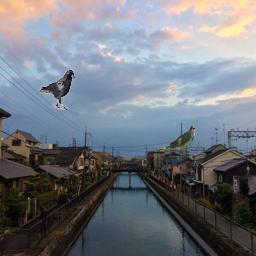Crow: (39, 70, 75, 110)
Cuckoo: (155, 125, 195, 152)
